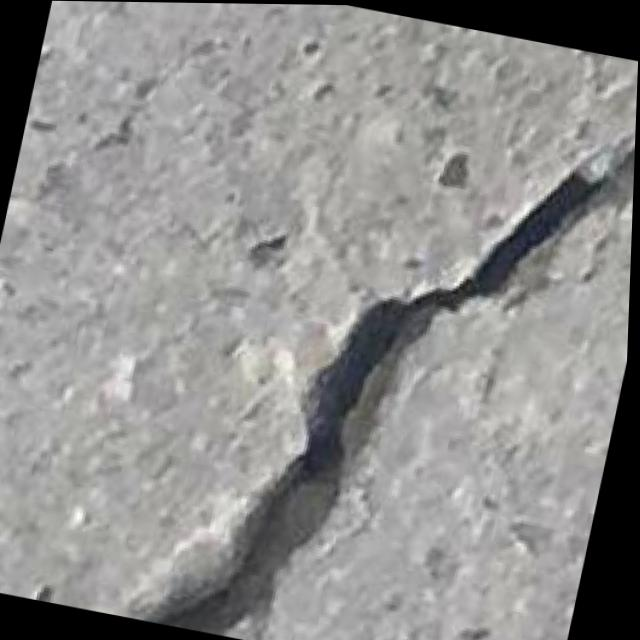Crack: (122, 2, 640, 640)
